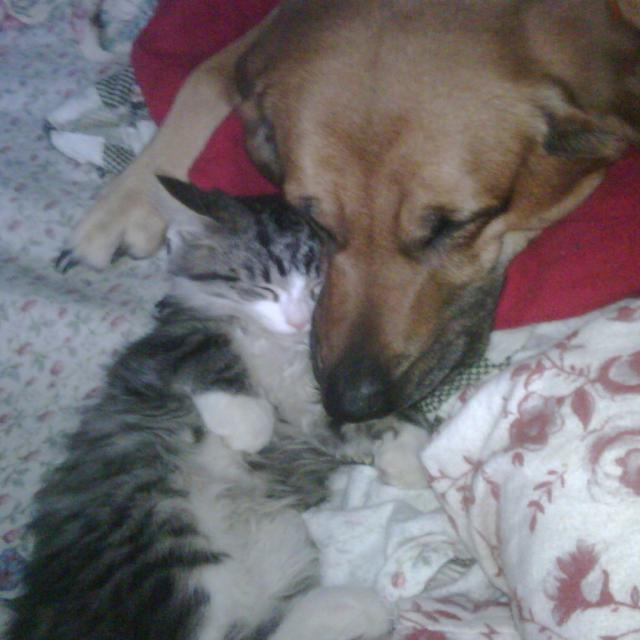Cat: (2, 171, 436, 634)
